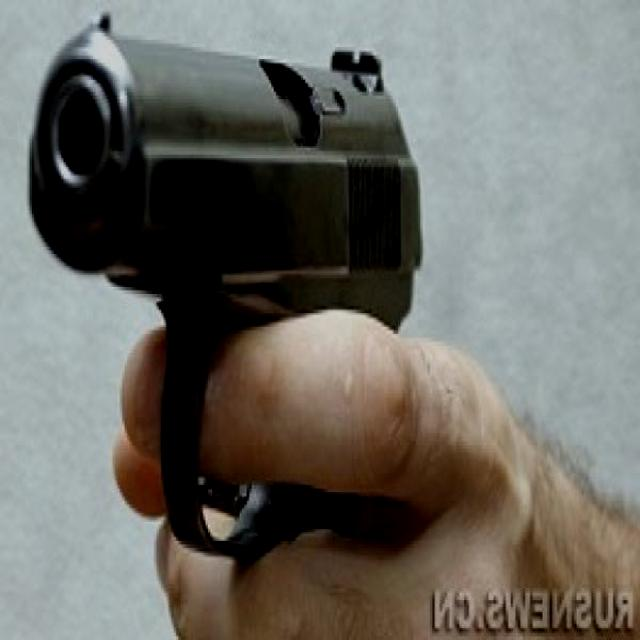pistol: (32, 11, 427, 550)
